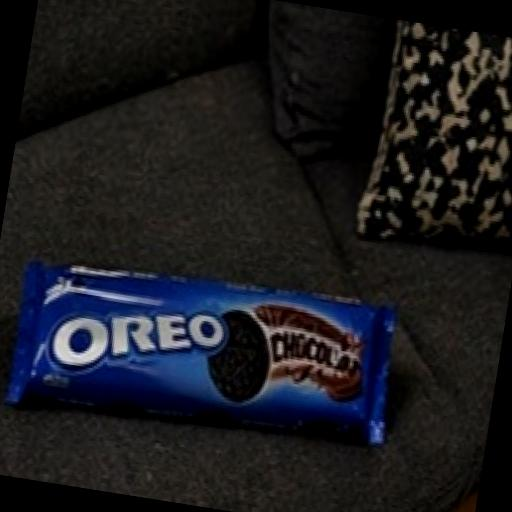oreo: (0, 192, 464, 512)
